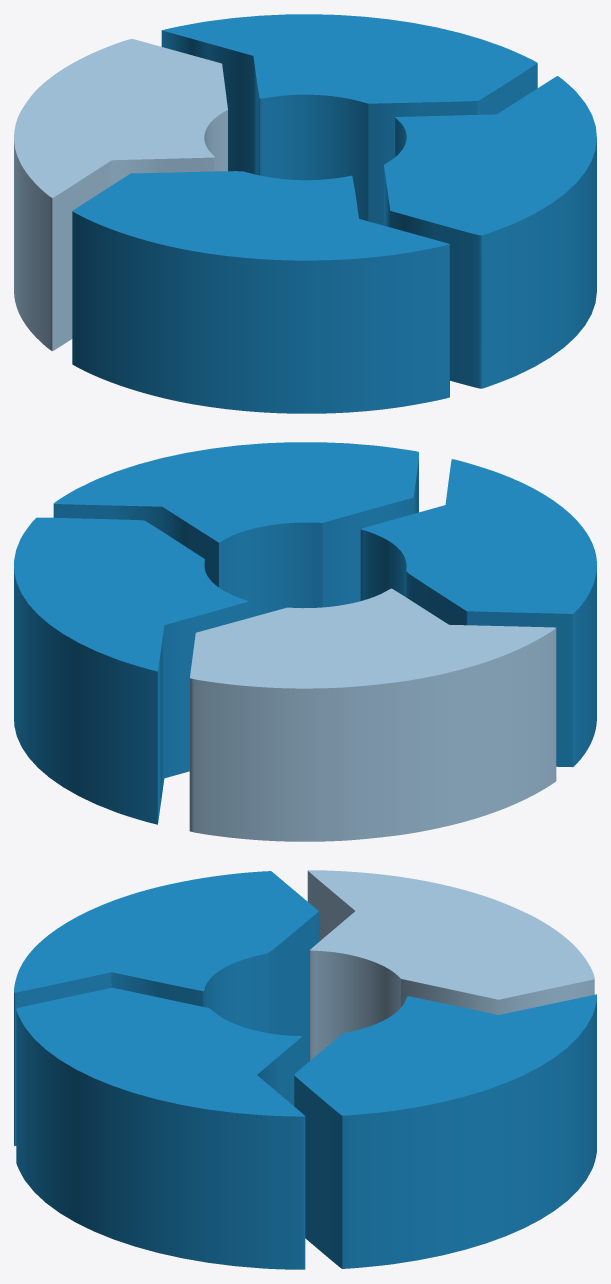
Rendered from digilean3d.glb.
3 renders of one model, top to bottom at view 1: azimuth 30°, elevation 25°; view 2: azimuth 150°, elevation 25°; view 3: azimuth 270°, elevation 25°, orthographic.
Parts seen in each view (by area): view 1: Curve.002, Curve.003, Curve, Curve.001; view 2: Curve.001, Curve, Curve.003, Curve.002; view 3: Curve.003, Curve, Curve.002, Curve.001.
Part boxes in pixels (<box>): Curve.002: <box>72,171,449,413</box>; Curve.003: <box>384,76,596,388</box>; Curve: <box>161,14,537,225</box>; Curve.001: <box>14,38,227,351</box>; Curve.001: <box>189,588,556,841</box>; Curve: <box>14,517,248,824</box>; Curve.003: <box>53,442,418,617</box>; Curve.002: <box>360,459,596,767</box>; Curve.003: <box>16,987,305,1269</box>; Curve: <box>294,994,596,1268</box>; Curve.002: <box>14,871,318,1145</box>; Curve.001: <box>307,870,594,1060</box>.
Size of the model in its own units: 0.0689 by 0.02 by 0.0689.
